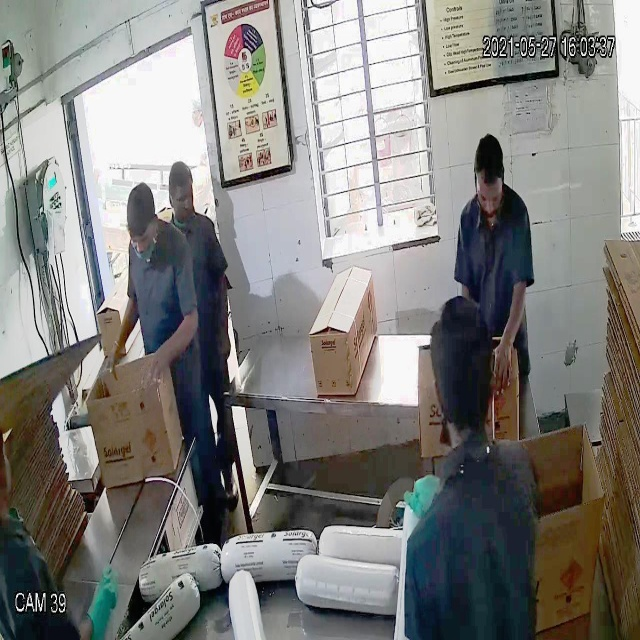Sin_gafas: (121, 226, 162, 257)
